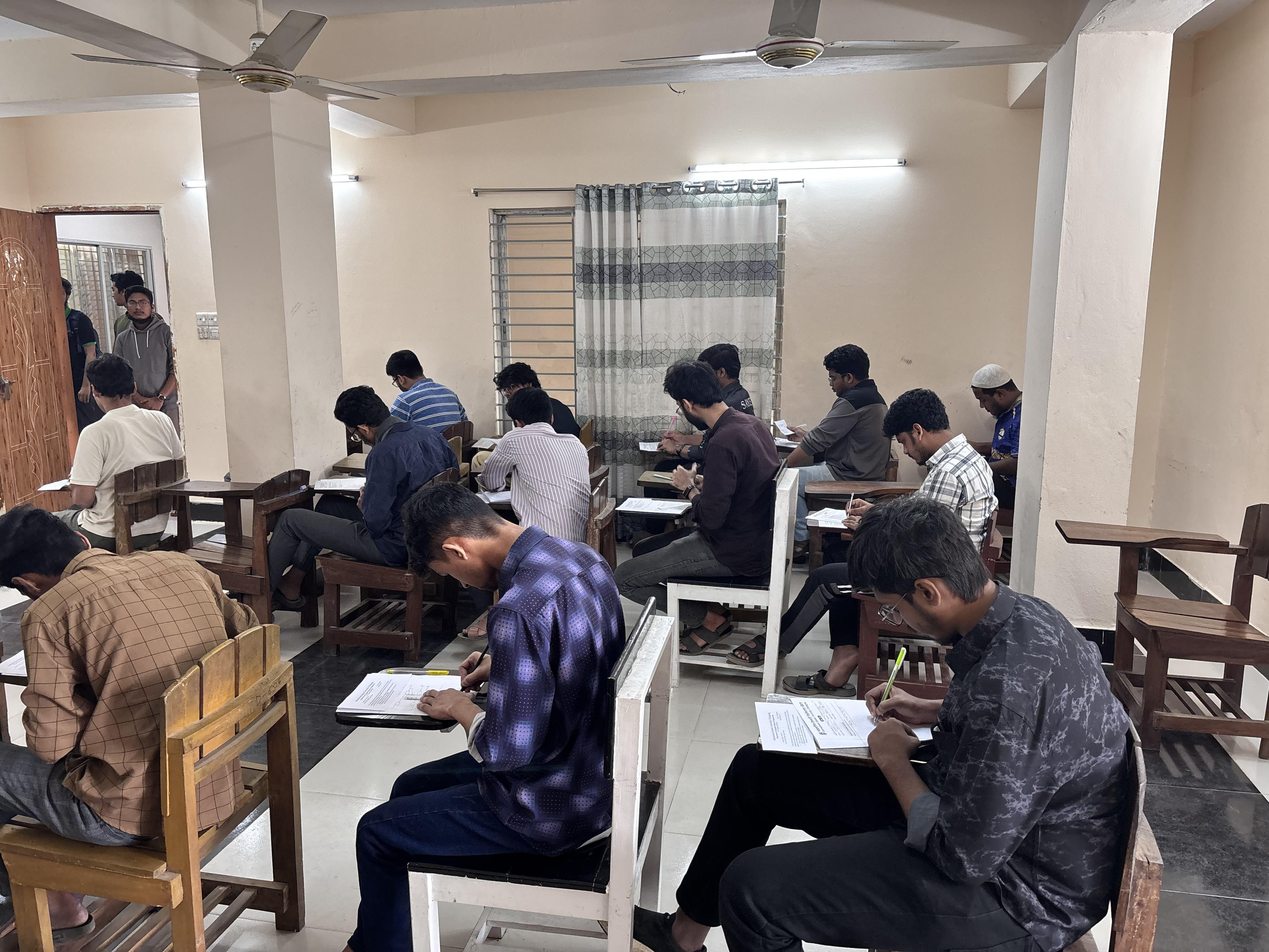no_cheating: (719, 491, 1106, 823), (326, 474, 609, 820), (0, 491, 292, 825), (625, 354, 773, 593), (33, 351, 192, 526), (301, 380, 445, 552), (851, 391, 997, 545), (478, 391, 599, 549), (793, 329, 900, 473), (944, 353, 1050, 442), (371, 342, 465, 431)
